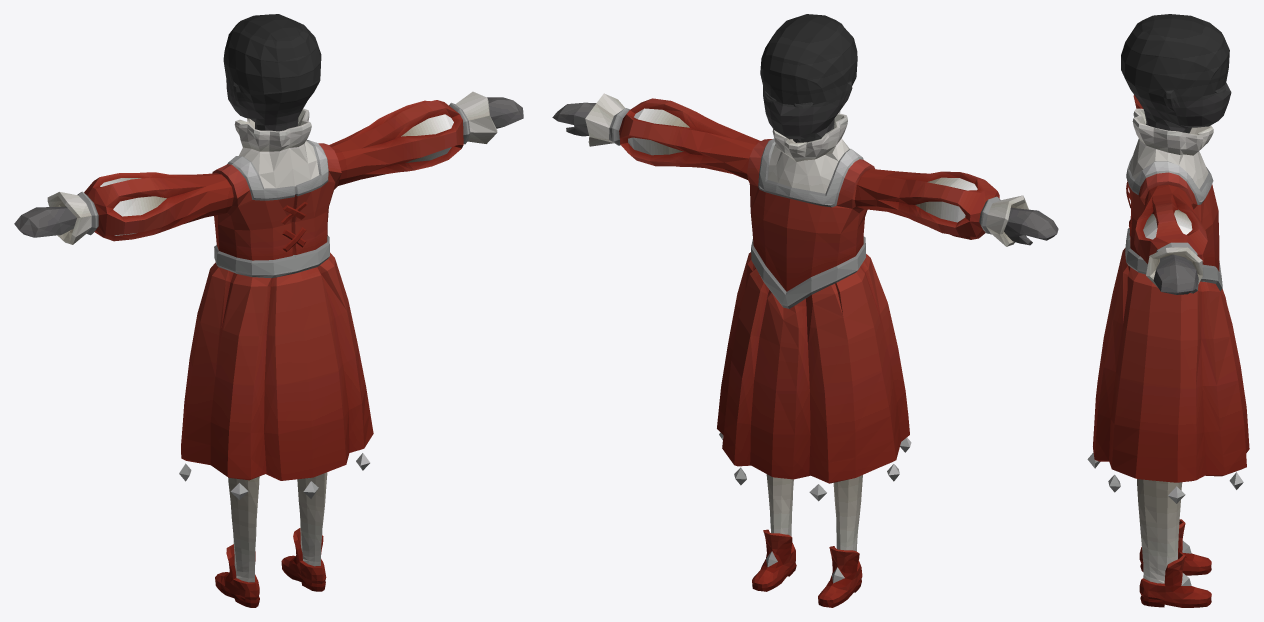
File: CharSkyKid_Body_AP26Gown.glb
3 views of the same model, side by side, from view 1: azimuth 30°, elevation 25°; view 2: azimuth 150°, elevation 25°; view 3: azimuth 270°, elevation 25° (orthographic).
Parts seen in each view (by area): view 1: CharSkyKid_Body_AP26Gown; view 2: CharSkyKid_Body_AP26Gown; view 3: CharSkyKid_Body_AP26Gown.
Boxes of the visible parts, <box> form: CharSkyKid_Body_AP26Gown: <box>14,14,523,607</box>; CharSkyKid_Body_AP26Gown: <box>552,14,1058,607</box>; CharSkyKid_Body_AP26Gown: <box>1087,14,1249,607</box>.
Bounding box in the file's own units: 13.83 × 14.92 × 3.86.
1 material, 1 textured.
